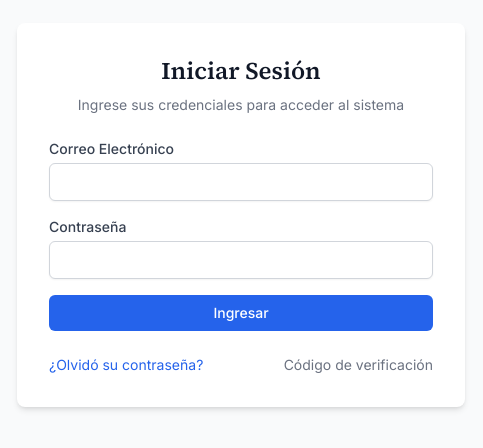
Scenario: LoginPage › shows error for invalid email format
Type "invalid-email" into the field labelled "Correo Electrónico" at (241, 182), box left=49, top=163, right=433, bottom=201
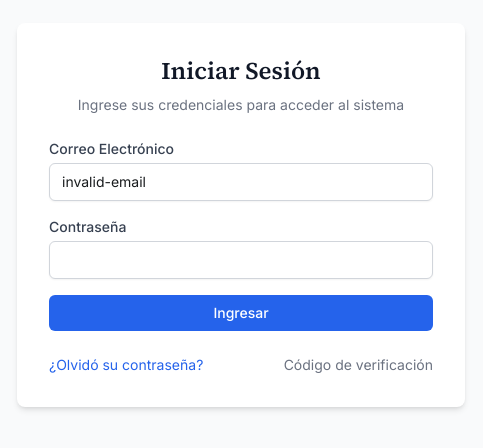
Click the button "Ingresar" at (241, 313), box left=49, top=295, right=433, bottom=331
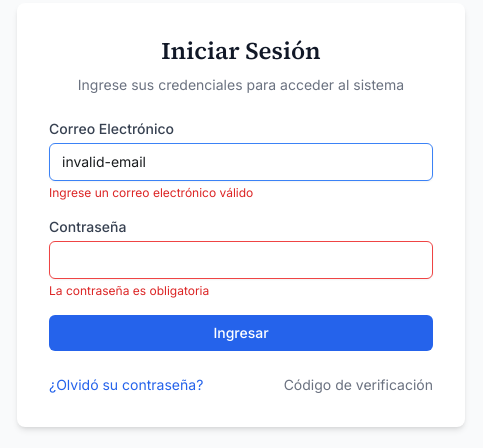
Result: the text "Ingrese un correo electrónico válido" is shown at left=49, top=185, right=253, bottom=200
